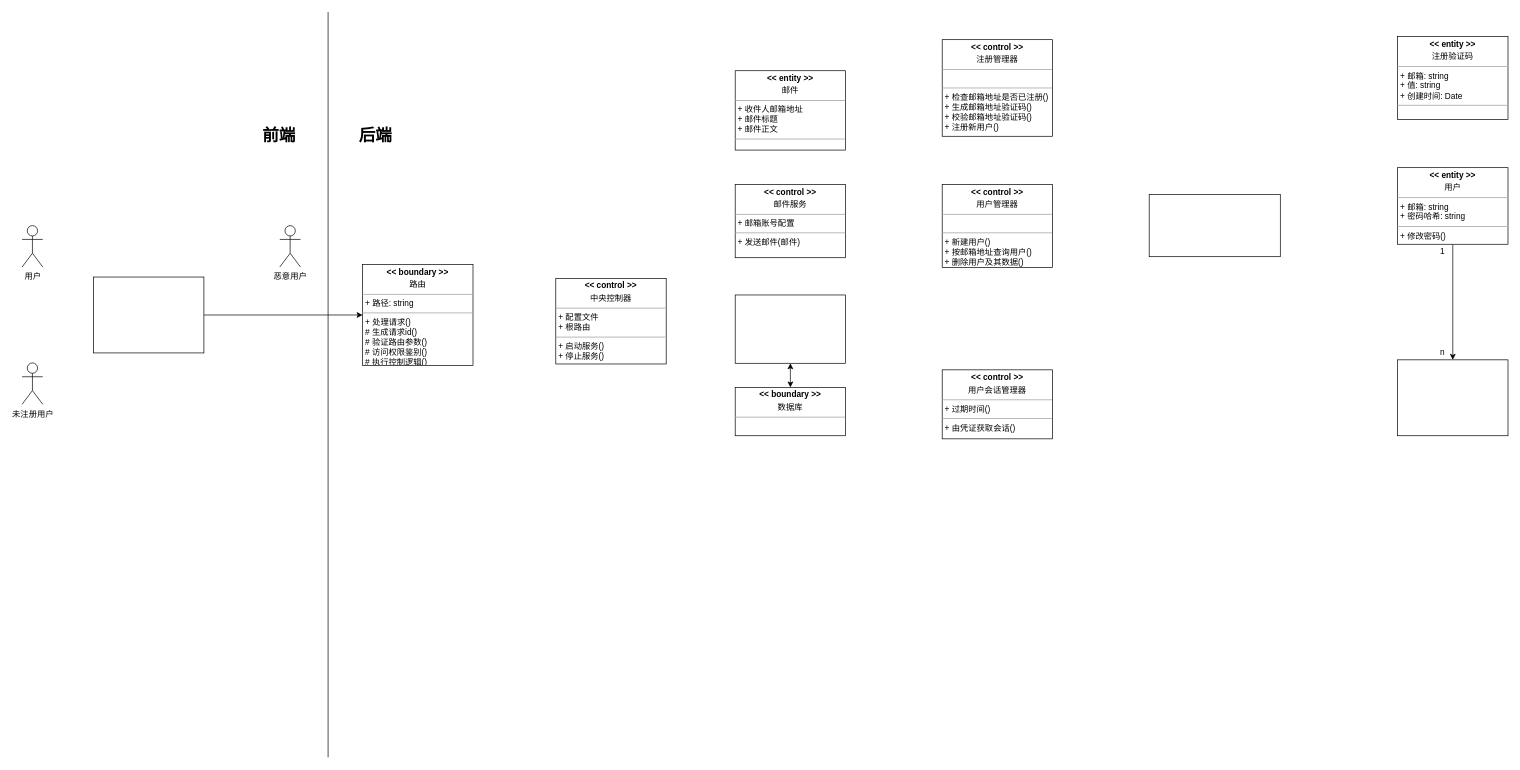
Image size: 1520x770. Some labels were removed from this diagram. Here are the shapes that lost their labels. From the top down, the centre of each, then its label:
At pixel 1214 225: "<<Interface>> 可持久化 + 持久化()".
At pixel 148 314: "<< boundary >> 前端用户界面 + 接收用户的输入() + 向用户展示信息()".
At pixel 790 328: "<< control >> 对象持久化服务 + 数据库配置 + 存取数据()".
At pixel 1452 397: "<< entity >> 用户会话 + 会话凭证: string + 持久化() + 终止会话()".
